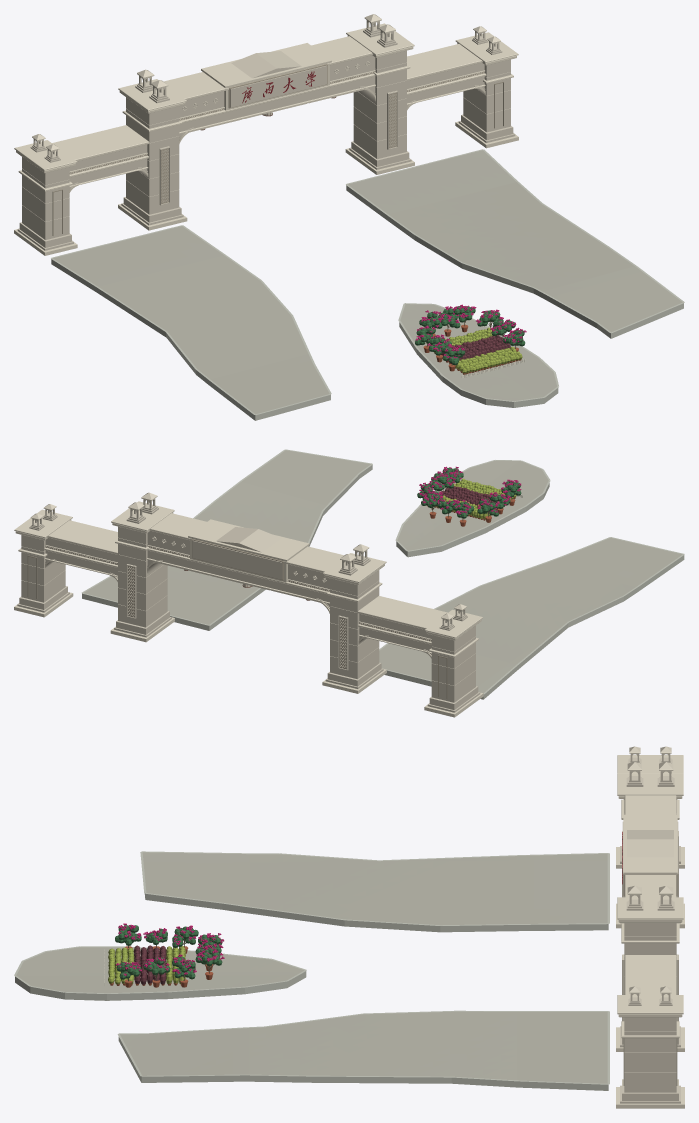
File: south-gate.glb
The picture shows the model from 3 angles, top to bottom: view 1: azimuth 30°, elevation 25°; view 2: azimuth 150°, elevation 25°; view 3: azimuth 270°, elevation 25°; orthographic projection. The views are drawn at different scales.
Parts seen in each view (by area): view 1: landmark-south-gate; view 2: landmark-south-gate; view 3: landmark-south-gate.
Part boxes in pixels (bbox=[...]): landmark-south-gate: bbox=[14, 14, 684, 420]; landmark-south-gate: bbox=[14, 449, 684, 717]; landmark-south-gate: bbox=[14, 746, 684, 1108].
Bounding box in the file's own units: 44.14 × 13.13 × 48.2.
